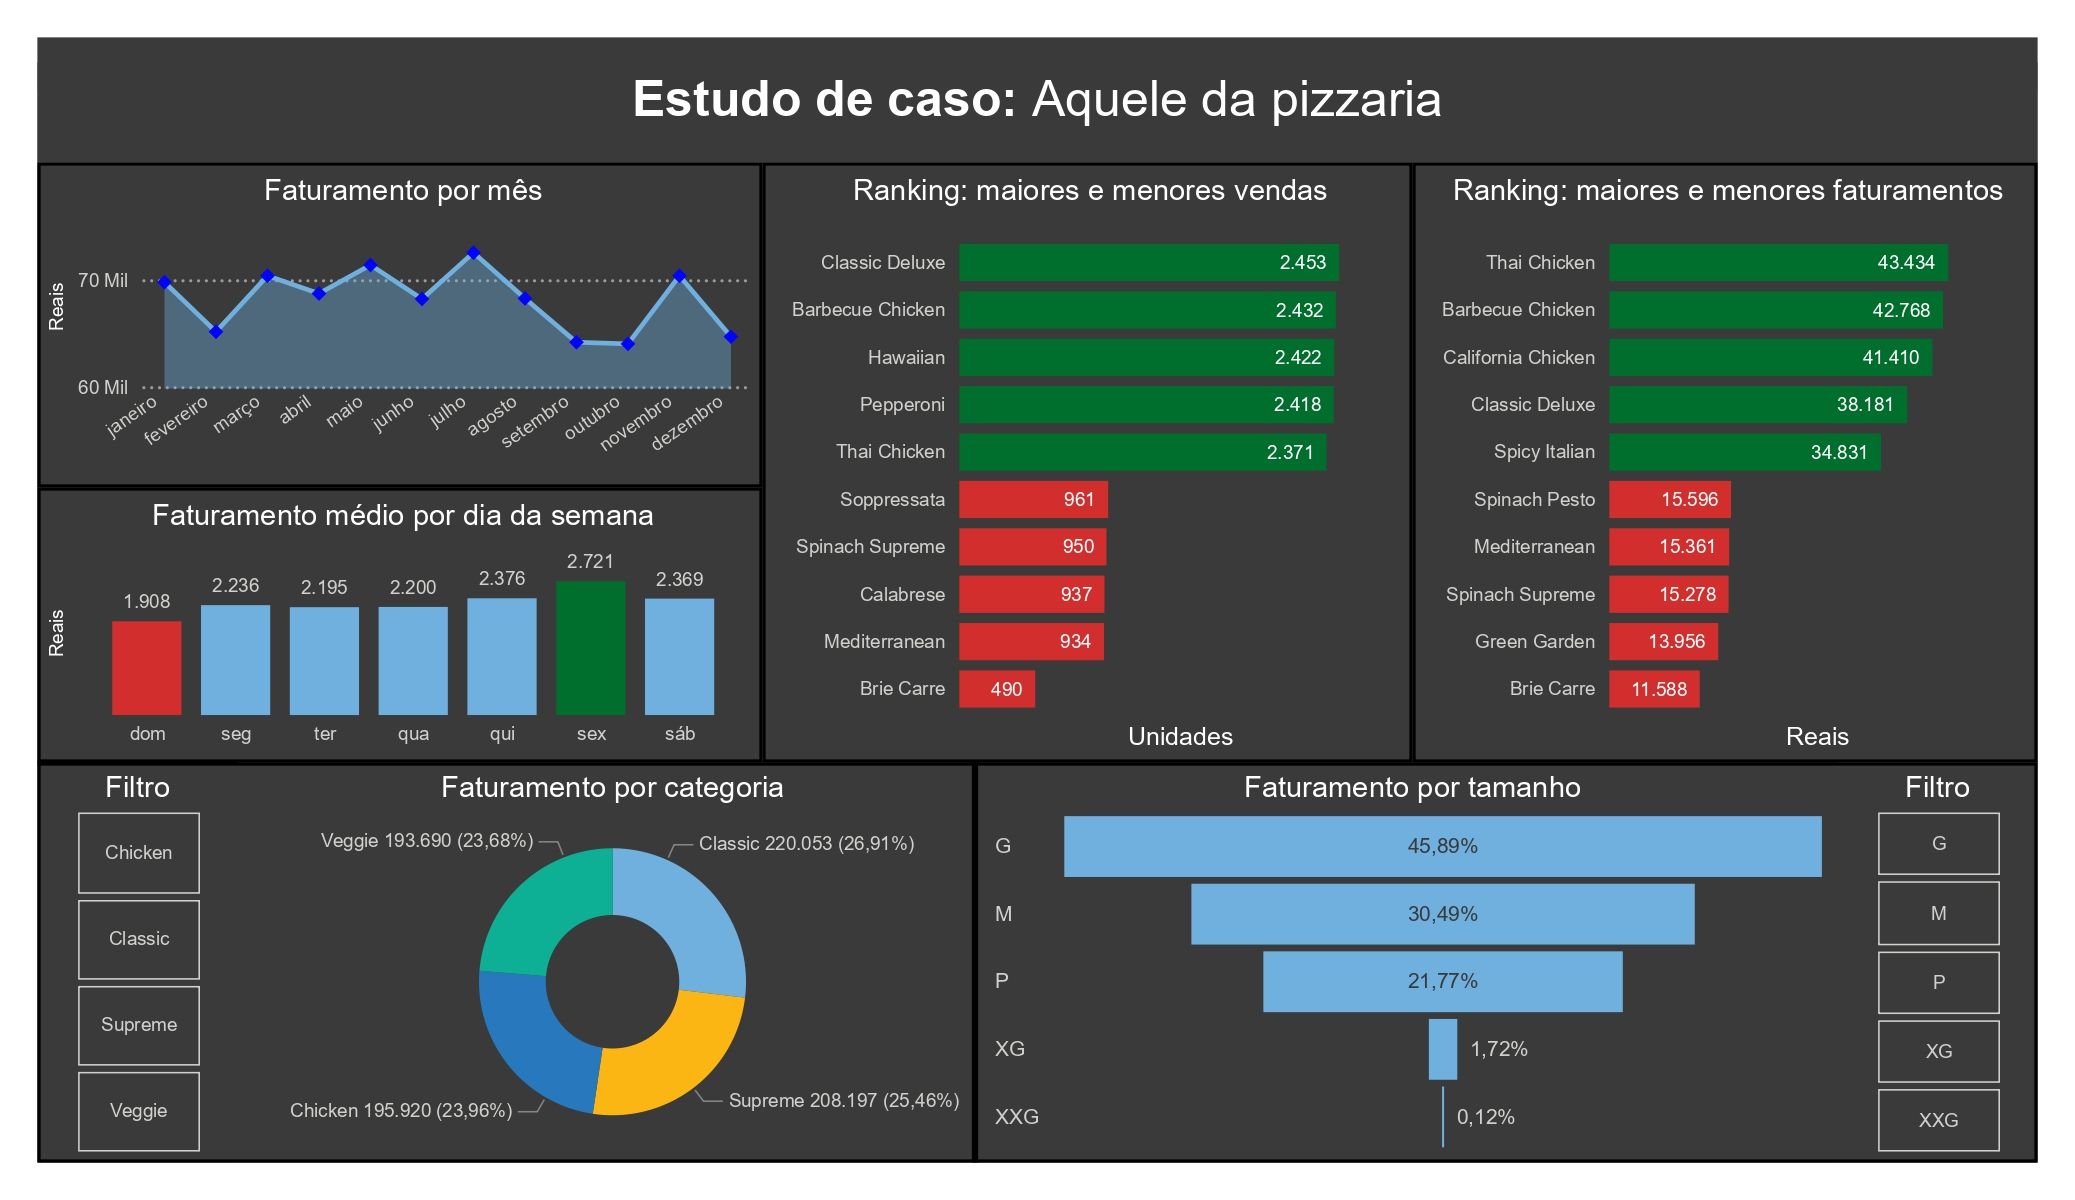

Layout of this report page (visuals, bound fields, positions):
{"tool":"powerbi","page":{"name":"Página 1","canvas":[1280,720],"ordinal":0},"visuals":[{"type":"funnel","title":"Faturamento por tamanho","fields":{"Category":["pizzas.size"],"Y":["medidas.faturamento_relativo"]},"box":[608,464,544,256],"z":0},{"type":"donutChart","title":"Faturamento por categoria","fields":{"Category":["pizza_types.category"],"Y":["medidas.faturamento_relativo"]},"box":[128,464,480,256],"z":1000},{"type":"columnChart","title":"Faturamento médio por dia da semana","fields":{"Category":["orders.dia_semana"],"Y":["medidas.faturamento_medio_por_dia"]},"box":[0,288,464,176],"z":2000},{"type":"lineChart","title":"Faturamento por mês","fields":{"Category":["orders.date.Variation.Hierarquia de datas.Mês"],"Y":["medidas.faturamento_relativo"]},"box":[0,80,464,208],"z":3000},{"type":"barChart","title":"Ranking: maiores e menores faturamentos","fields":{"Category":["pizza_types.name"],"Y":["medidas.maiores_piores_faturamentos"]},"box":[880,80,400,384],"z":4000},{"type":"barChart","title":"Ranking: maiores e menores vendas","fields":{"Category":["pizza_types.name"],"Y":["medidas.maiores_piores_qtd_vendida"]},"box":[464,80,416,384],"z":5000},{"type":"textbox","box":[0,16,1280,64],"z":6000},{"type":"slicer","title":"Filtro","fields":{"Values":["pizza_types.category"]},"box":[0,464,128,256],"z":7000},{"type":"slicer","title":"Filtro","fields":{"Values":["pizzas.size"]},"box":[1152,464,128,256],"z":8000},{"type":"shape","box":[448,464,304,256],"z":9000},{"type":"shape","box":[0,320,128,288],"z":10000},{"type":"shape","box":[0,464,1280,256],"z":11000}]}

Visuals, with their boxes in screenshot pixels (x1, y1, x2, y2):
"Faturamento por tamanho" funnel: 997 764 1836 1159
"Faturamento por categoria" donutChart: 257 764 997 1159
"Faturamento médio por dia da semana" columnChart: 59 493 775 764
"Faturamento por mês" lineChart: 59 172 775 493
"Ranking: maiores e menores faturamentos" barChart: 1416 172 2033 764
"Ranking: maiores e menores vendas" barChart: 775 172 1416 764
textbox: 59 73 2033 172
"Filtro" slicer: 59 764 257 1159
"Filtro" slicer: 1836 764 2033 1159
shape: 750 764 1219 1159
shape: 59 542 257 986
shape: 59 764 2033 1159
